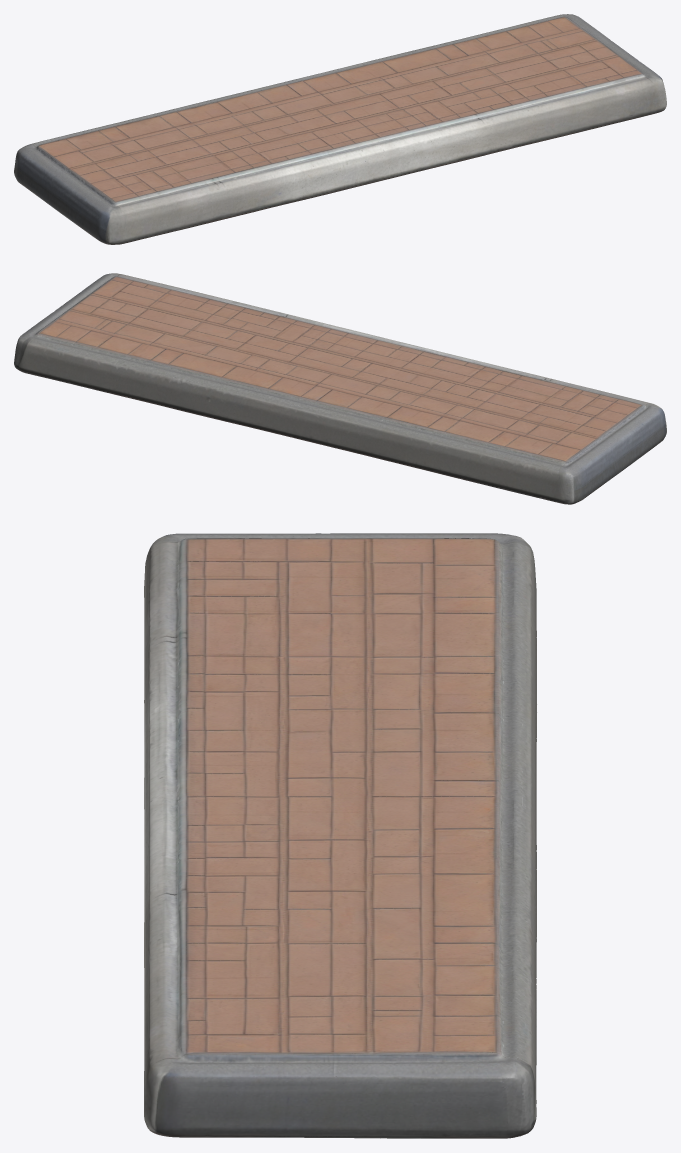
File: AI_SidewalkStraight.fbx
The picture shows the model from 3 angles, top to bottom: view 1: azimuth 30°, elevation 25°; view 2: azimuth 150°, elevation 25°; view 3: azimuth 270°, elevation 25°; orthographic projection. The views are drawn at different scales.
Visible parts, largest first — view 1: Mesh_0; view 2: Mesh_0; view 3: Mesh_0.
Part boxes in pixels (x1,y1,x2,y2): Mesh_0: [14, 14, 666, 244]; Mesh_0: [14, 273, 666, 504]; Mesh_0: [144, 533, 536, 1138].
Size of the model in its own units: 200 by 11.91 by 60.21.
1 material, 1 textured.
